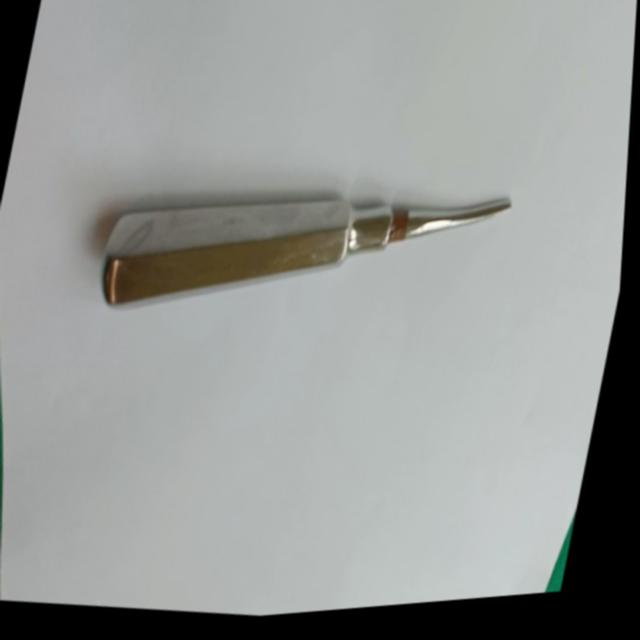Coupland1: (87, 133, 528, 385)
